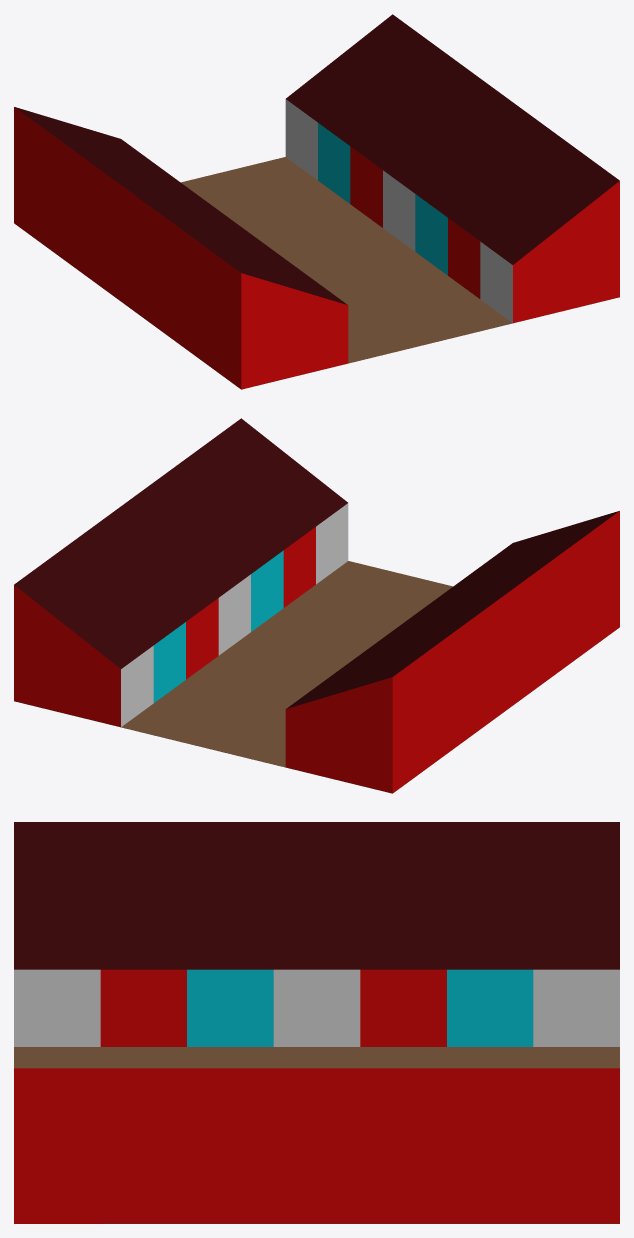
Rendered from ground.fbx.
3 views of the same model, one above another, from view 1: azimuth 30°, elevation 25°; view 2: azimuth 150°, elevation 25°; view 3: azimuth 270°, elevation 25° (orthographic). The views are drawn at different scales.
Visible parts, largest first — view 1: Cube; view 2: Cube; view 3: Cube.
Part boxes in pixels (<box>): Cube: <box>14,14,619,389</box>; Cube: <box>14,418,619,793</box>; Cube: <box>14,822,619,1223</box>.
Size of the model in its own units: 192 by 56.61 by 200.
